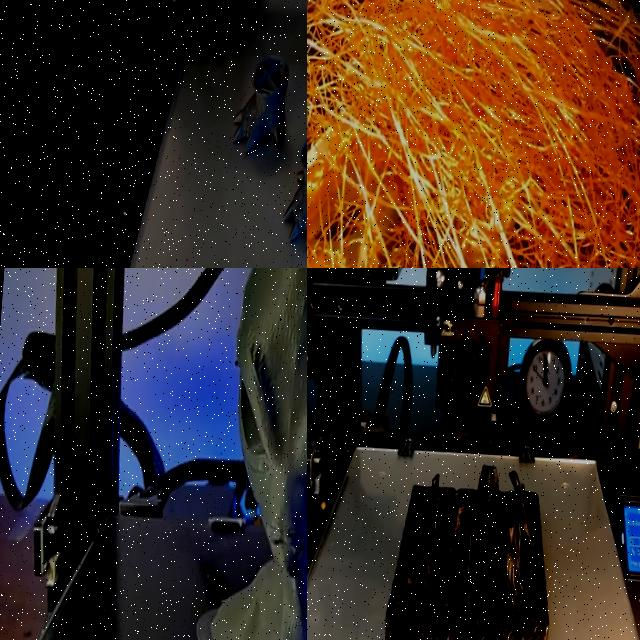spaghetti: (307, 0, 640, 268)
